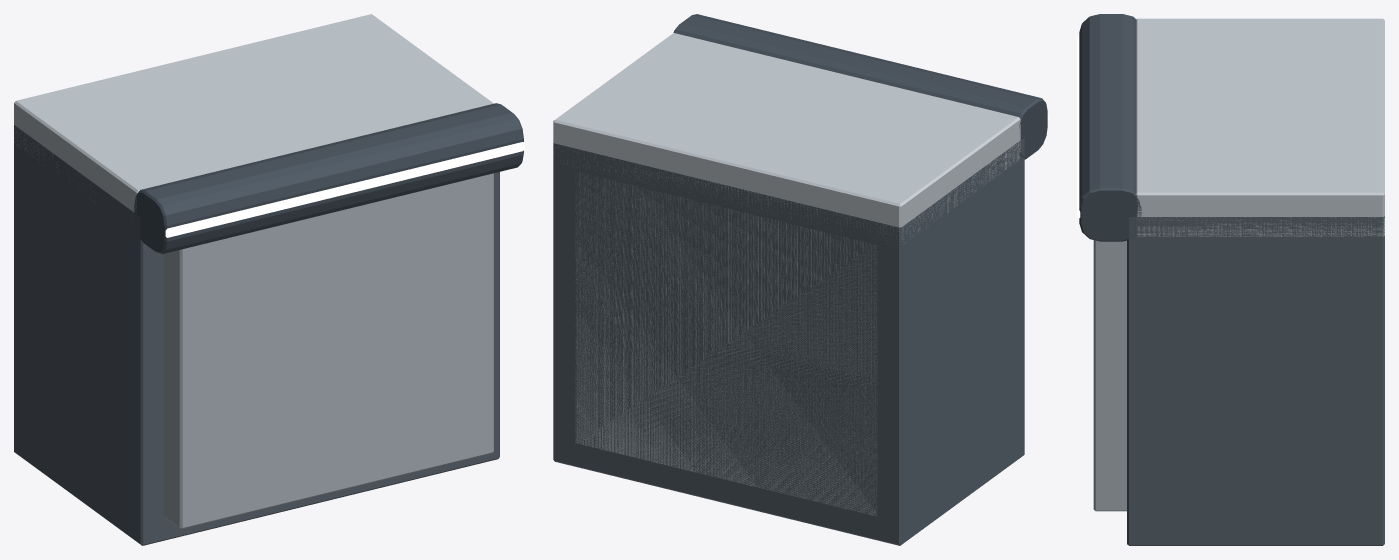
File: Terrain_TopRun1.gltf
3 views of the same model, side by side, from view 1: azimuth 30°, elevation 25°; view 2: azimuth 150°, elevation 25°; view 3: azimuth 270°, elevation 25° (orthographic). The views are drawn at different scales.
Parts seen in each view (by area): view 1: Terrain_TopRun1_baked; view 2: Terrain_TopRun1_baked; view 3: Terrain_TopRun1_baked.
Part boxes in pixels (<box>): Terrain_TopRun1_baked: <box>14,14,524,545</box>; Terrain_TopRun1_baked: <box>553,14,1048,545</box>; Terrain_TopRun1_baked: <box>1077,14,1384,545</box>.
Bounding box in the file's own units: 1 × 0.9495 × 0.74.
